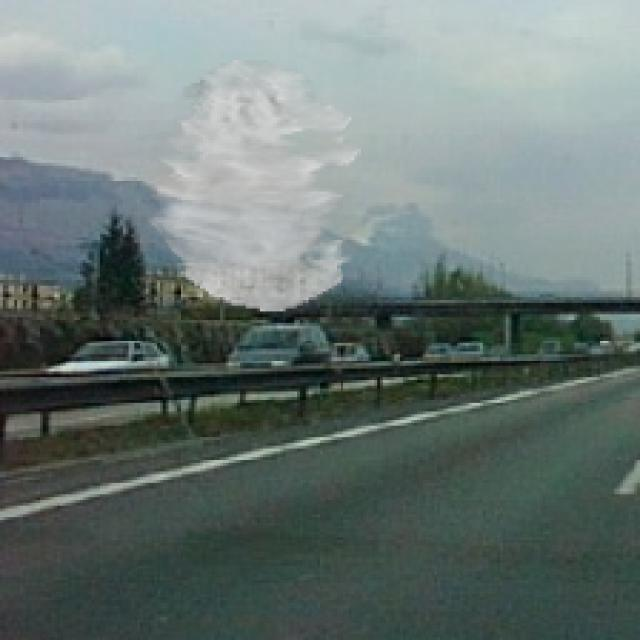Smoke: (146, 60, 360, 312)
